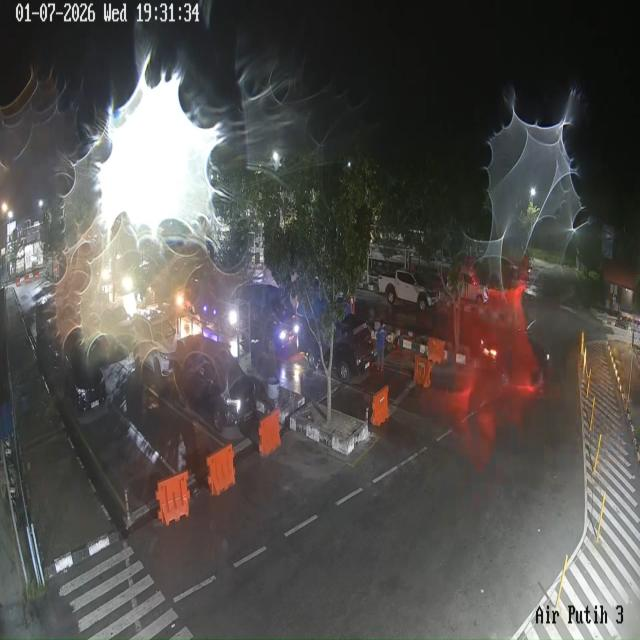Golongan IVA: (174, 334, 256, 432), (301, 315, 374, 382), (232, 284, 300, 352), (60, 328, 106, 422), (132, 308, 178, 382)
Golongan IVB: (378, 270, 439, 311)
